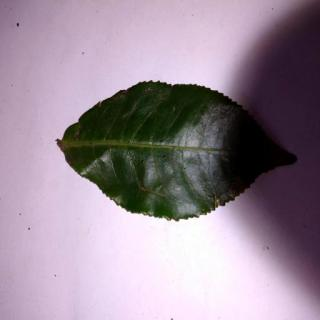Bird Eye Spot: (55, 81, 302, 223)
